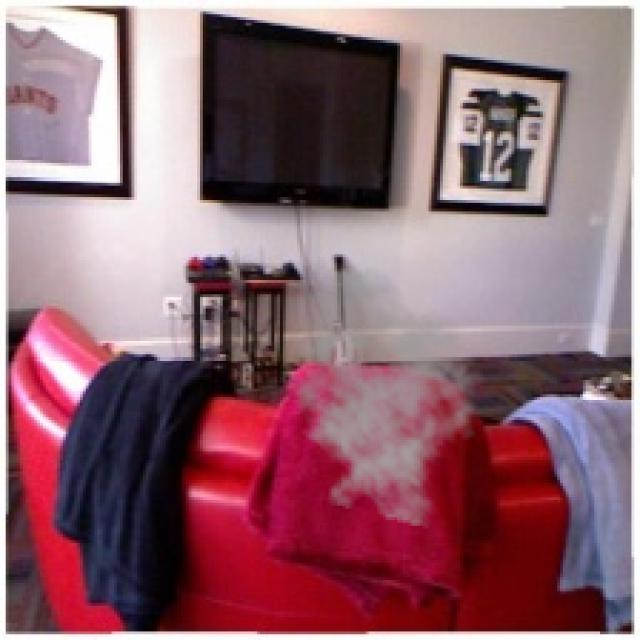smoke: (271, 263, 486, 528)
